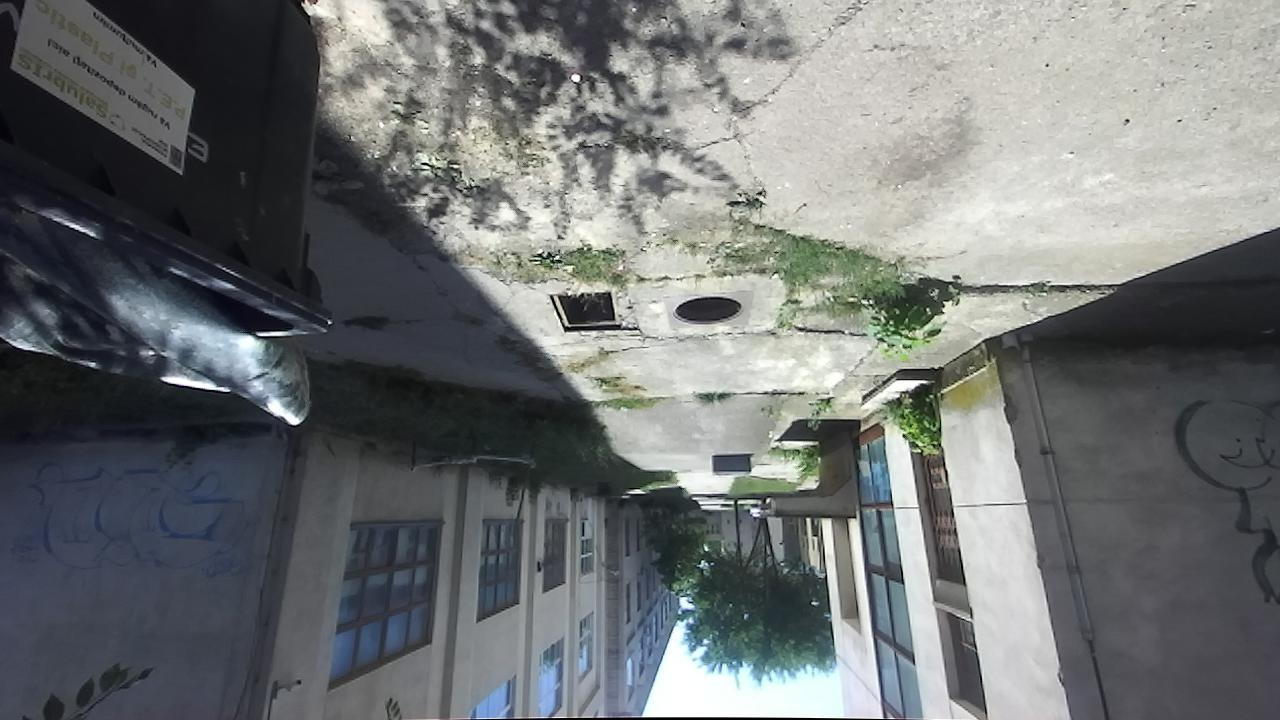drain: (535, 291, 636, 326), (669, 296, 747, 328)
